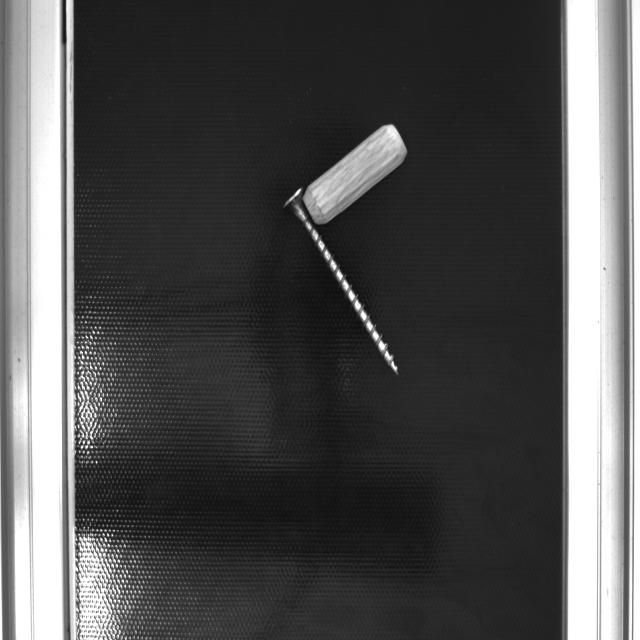Chot go: (304, 121, 411, 226)
vit xoan: (282, 188, 402, 376)
